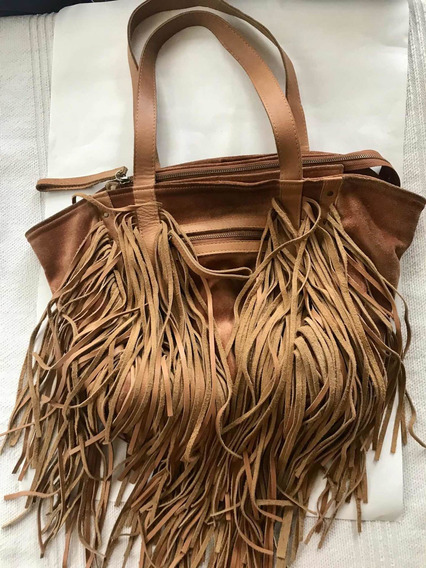cartera: (23, 4, 426, 466)
